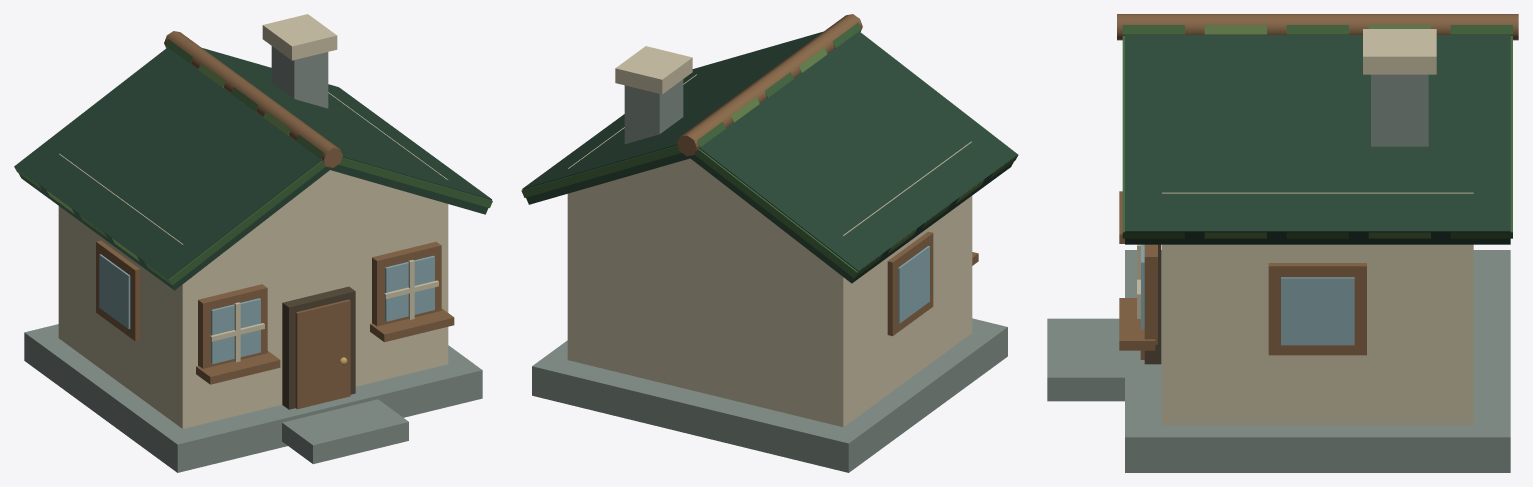
The model's file is moon-cottage.glb.
3 views of the same model, side by side, from view 1: azimuth 30°, elevation 25°; view 2: azimuth 150°, elevation 25°; view 3: azimuth 270°, elevation 25° (orthographic). The views are drawn at different scales.
Visible parts, largest first — view 1: moon-cottage-visual; view 2: moon-cottage-visual; view 3: moon-cottage-visual.
Part boxes in pixels (x1,y1,x2,y2): moon-cottage-visual: [14, 14, 492, 472]; moon-cottage-visual: [521, 14, 1018, 472]; moon-cottage-visual: [1047, 14, 1518, 472].
Bounding box in the file's own units: 2.87 × 2.59 × 2.88.
